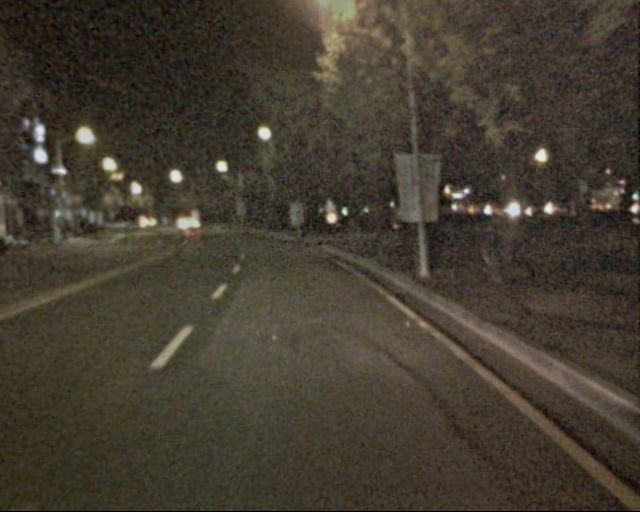person: (476, 210, 508, 280)
